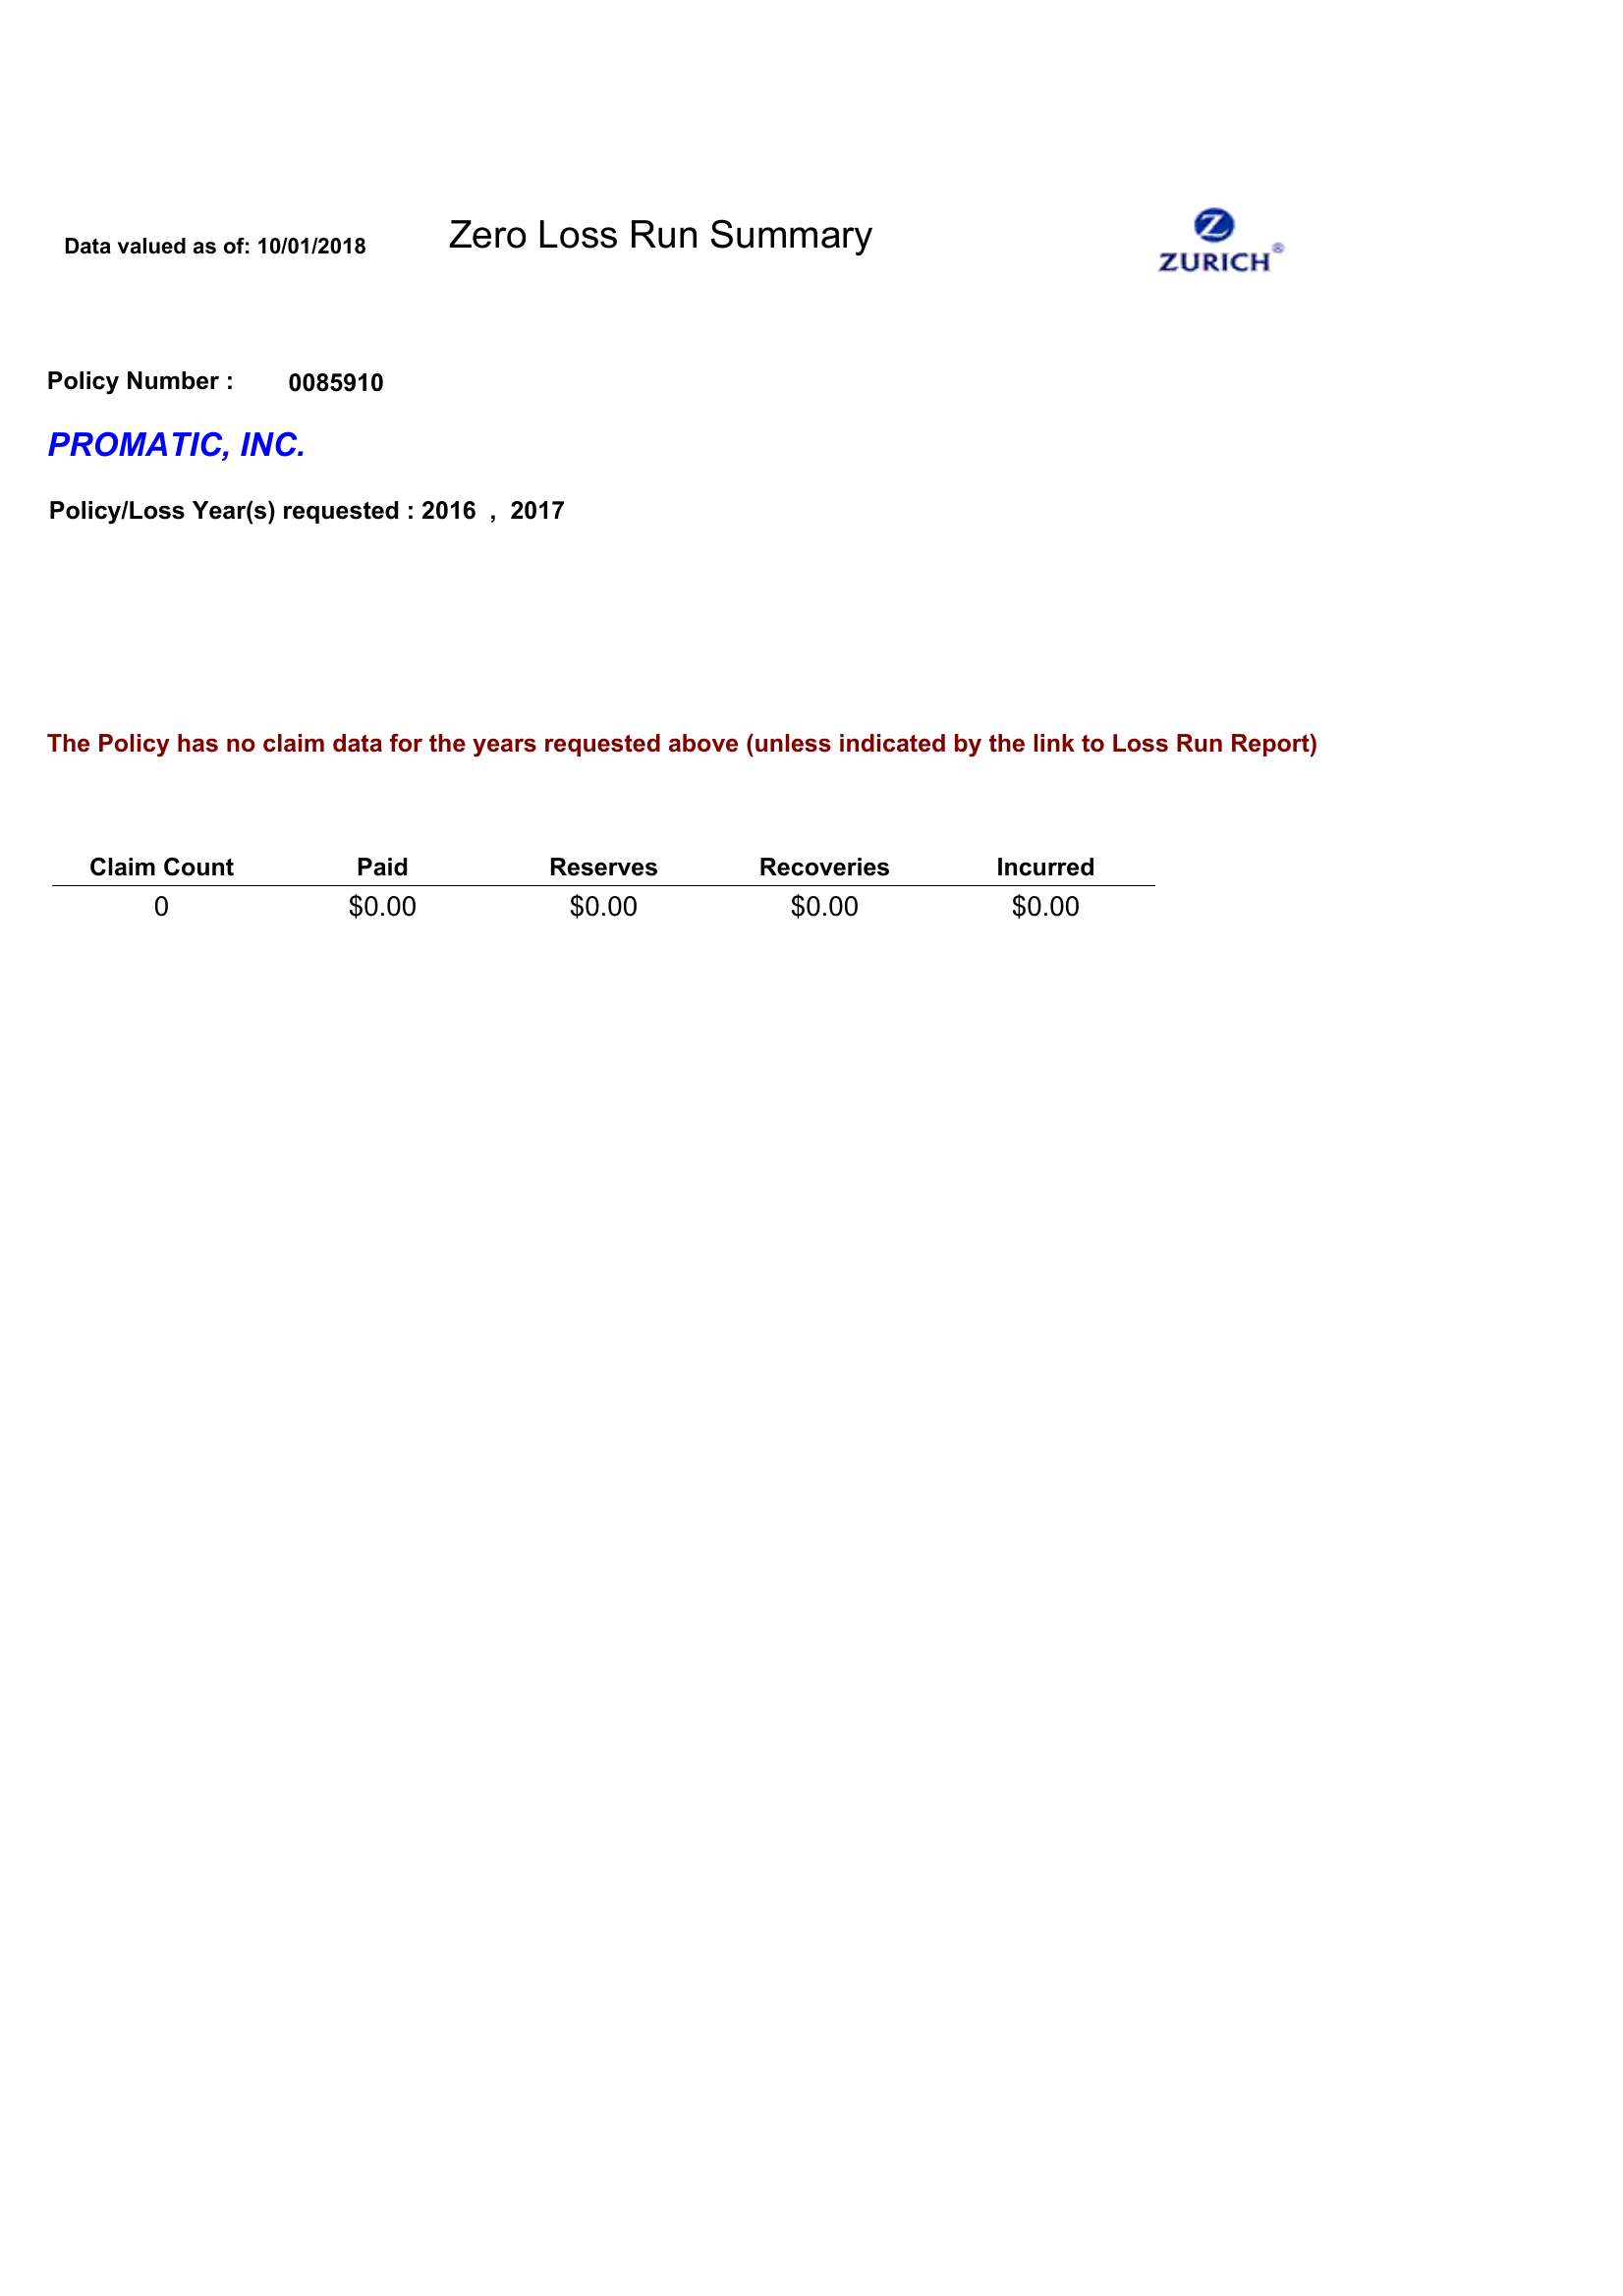No-loss: (39, 801, 1214, 1014)
